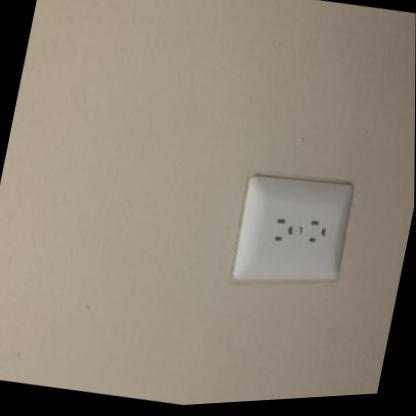OUTLET: (231, 165, 357, 293)
